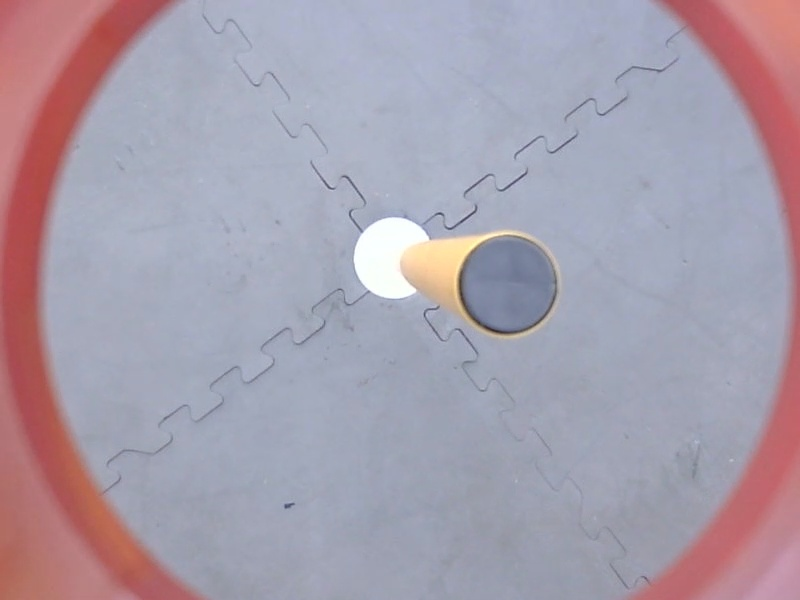tip: (449, 225, 566, 346)
